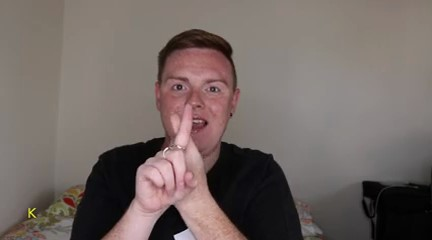K: (126, 104, 220, 219)
